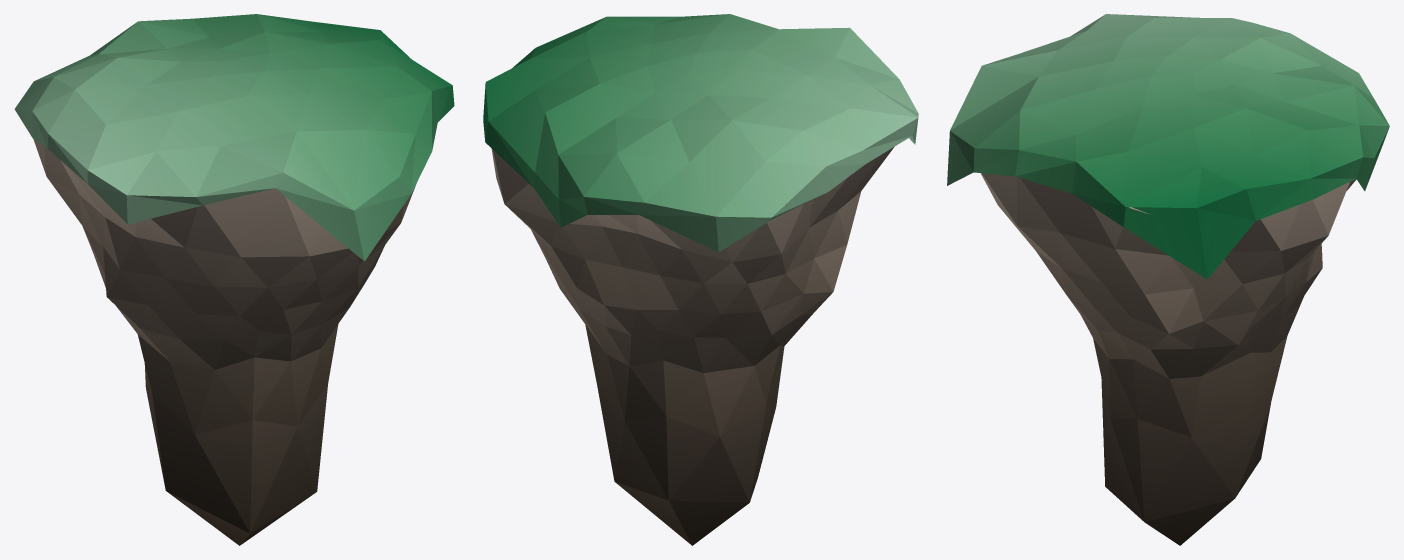
File: StonePlatform.fbx
The picture shows the model from 3 angles, left to right: view 1: azimuth 30°, elevation 25°; view 2: azimuth 150°, elevation 25°; view 3: azimuth 270°, elevation 25°; orthographic projection.
Visible parts, largest first — view 1: Cylinder, Cylinder.001; view 2: Cylinder, Cylinder.001; view 3: Cylinder, Cylinder.001.
Boxes of the visible parts, x1,y1,x2,y2 form: Cylinder: (14,14,454,261); Cylinder.001: (33,139,415,545); Cylinder: (483,14,918,252); Cylinder.001: (491,49,894,545); Cylinder: (947,14,1389,279); Cylinder.001: (981,173,1356,545).
Size of the model in its own units: 258 by 316 by 268.
